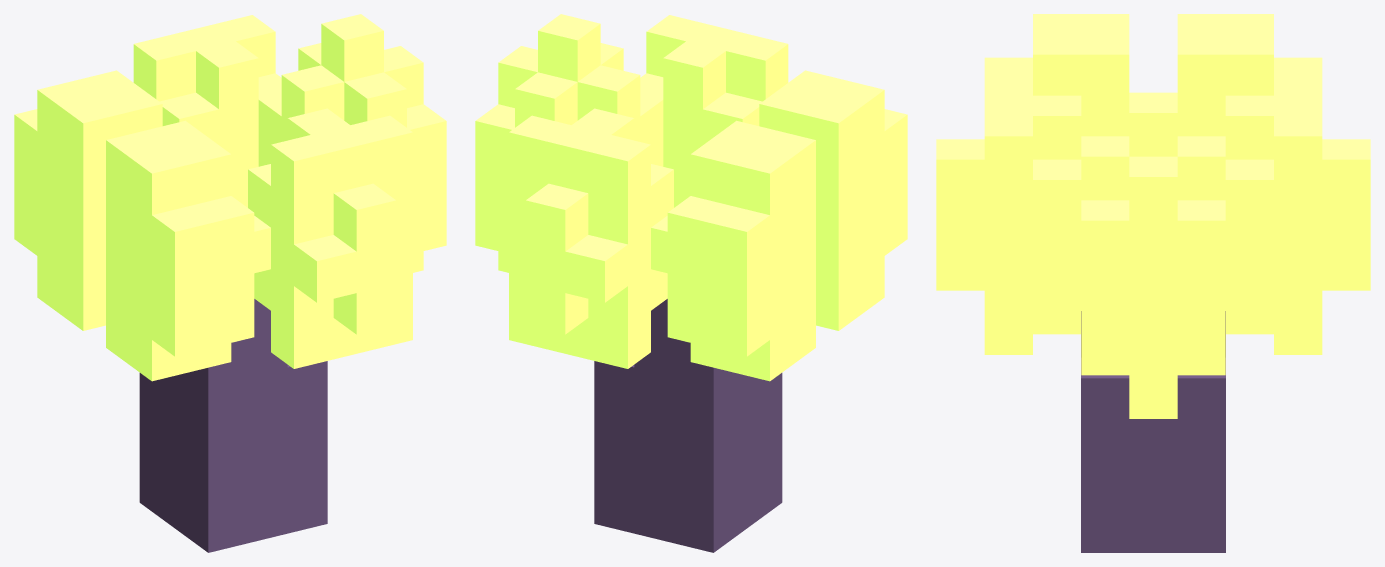
The model's file is alien-biosphere-bud-crown-f7bd7338__22806.glb.
3 views of the same model, side by side, from view 1: azimuth 30°, elevation 25°; view 2: azimuth 150°, elevation 25°; view 3: azimuth 270°, elevation 25° (orthographic). The views are drawn at different scales.
Parts seen in each view (by area): view 1: bud-crown; view 2: bud-crown; view 3: bud-crown.
Part boxes in pixels (x1,y1,x2,y2): bud-crown: (14, 14, 446, 552); bud-crown: (475, 14, 907, 552); bud-crown: (936, 14, 1370, 552).
Size of the model in its own units: 1.04 by 1.43 by 1.17.
